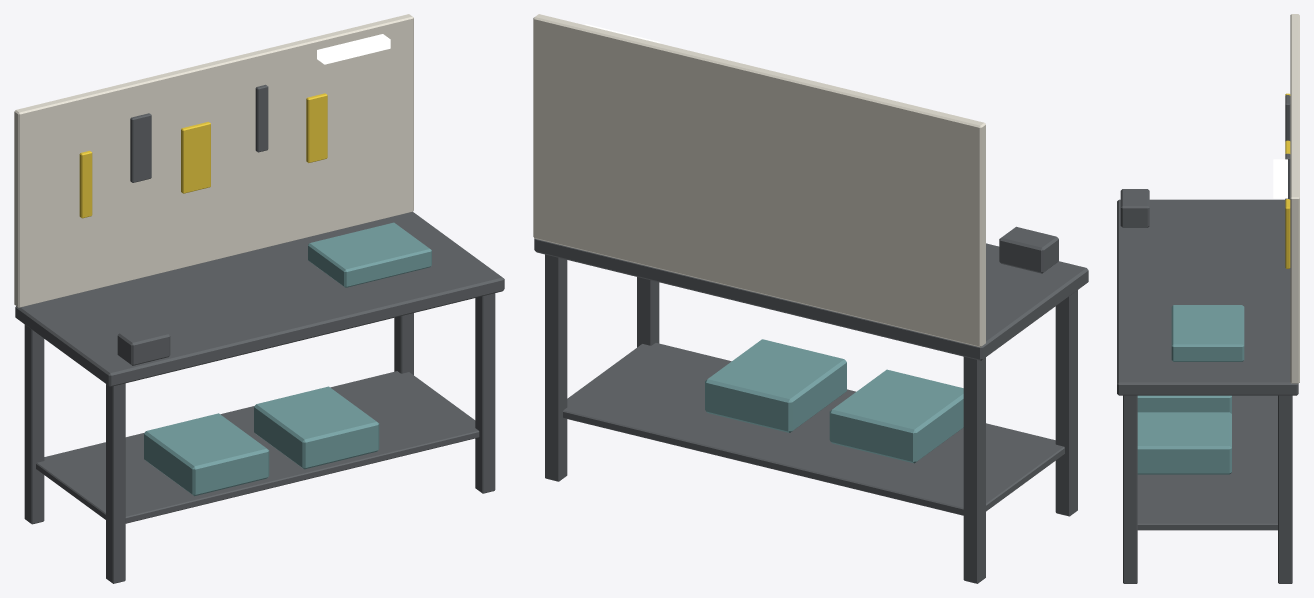
File: workbench.glb
3 views of the same model, side by side, from view 1: azimuth 30°, elevation 25°; view 2: azimuth 150°, elevation 25°; view 3: azimuth 270°, elevation 25° (orthographic). The views are drawn at different scales.
Parts seen in each view (by area): view 1: workbench; view 2: workbench; view 3: workbench.
Boxes of the visible parts, x1,y1,x2,y2 form: workbench: (14, 14, 504, 583); workbench: (533, 14, 1088, 583); workbench: (1117, 14, 1299, 583).
Size of the model in its own units: 1.8 by 1.78 by 0.755.
